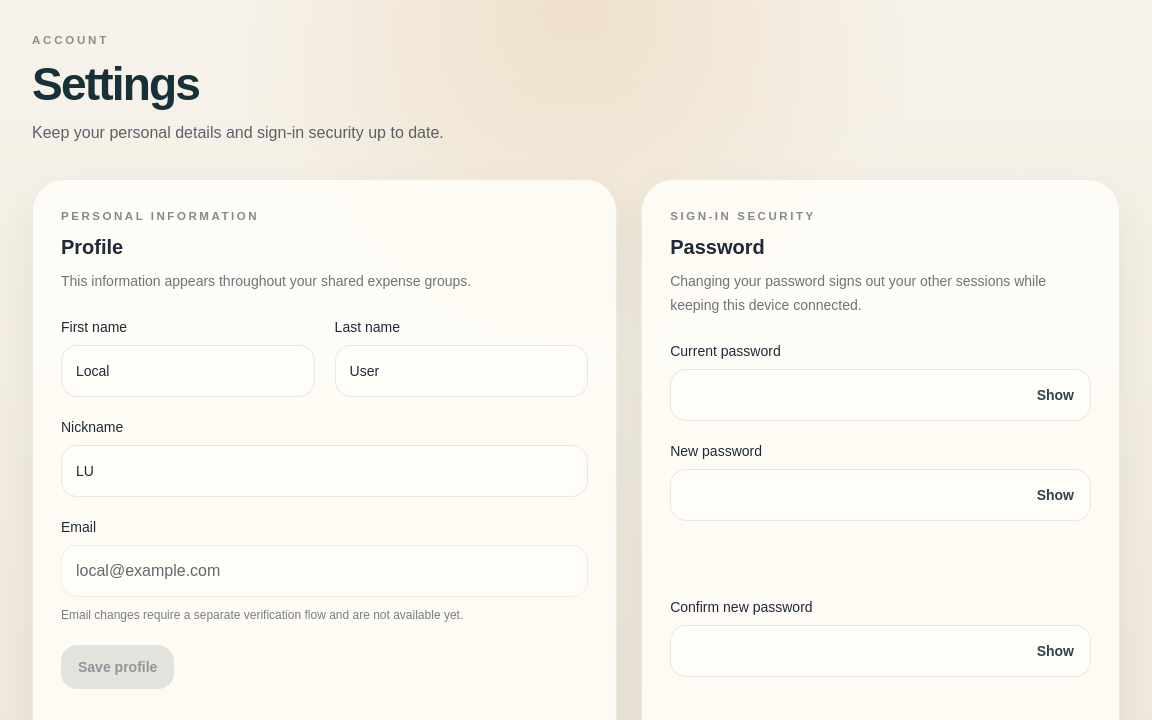
Scenario: AccountSettings › shows debounced password length and confirmation feedback
Expected: the field showing "local@example.com" is shown, [61,545,588,597]
In the password field labelled "New password": (881, 495) [670,469,1091,521], type "short"
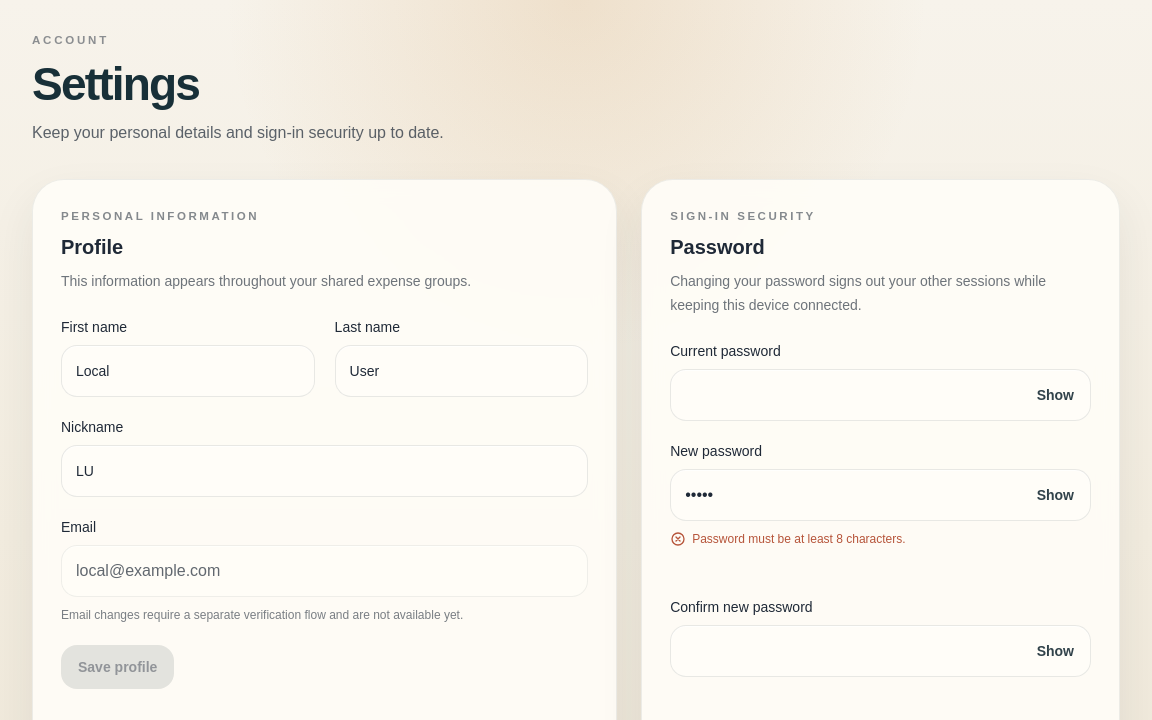
Expected: the text "Password must be at least 8 characters." is shown, [670,531,906,547]
In the password field labelled "New password": (881, 495) [670,469,1091,521], type "valid-password"
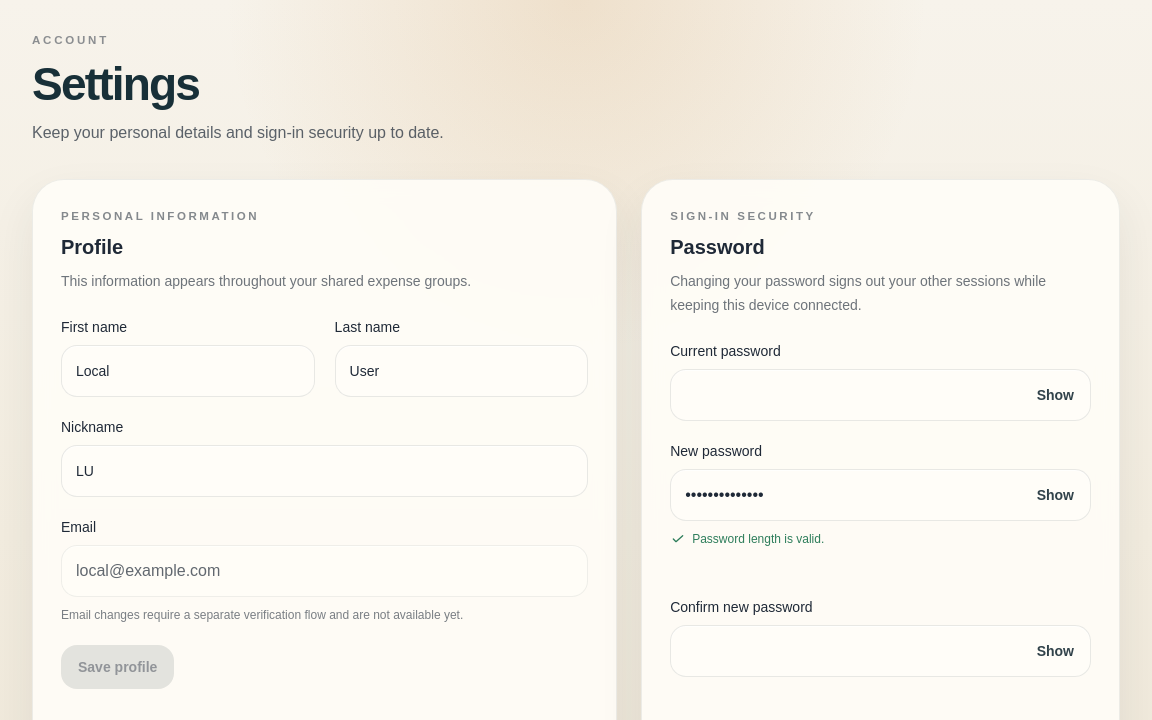
Expected: the text "Password length is valid." is shown, [670,531,824,547]
In the password field labelled "Confirm new password": (881, 651) [670,625,1091,677], type "different"
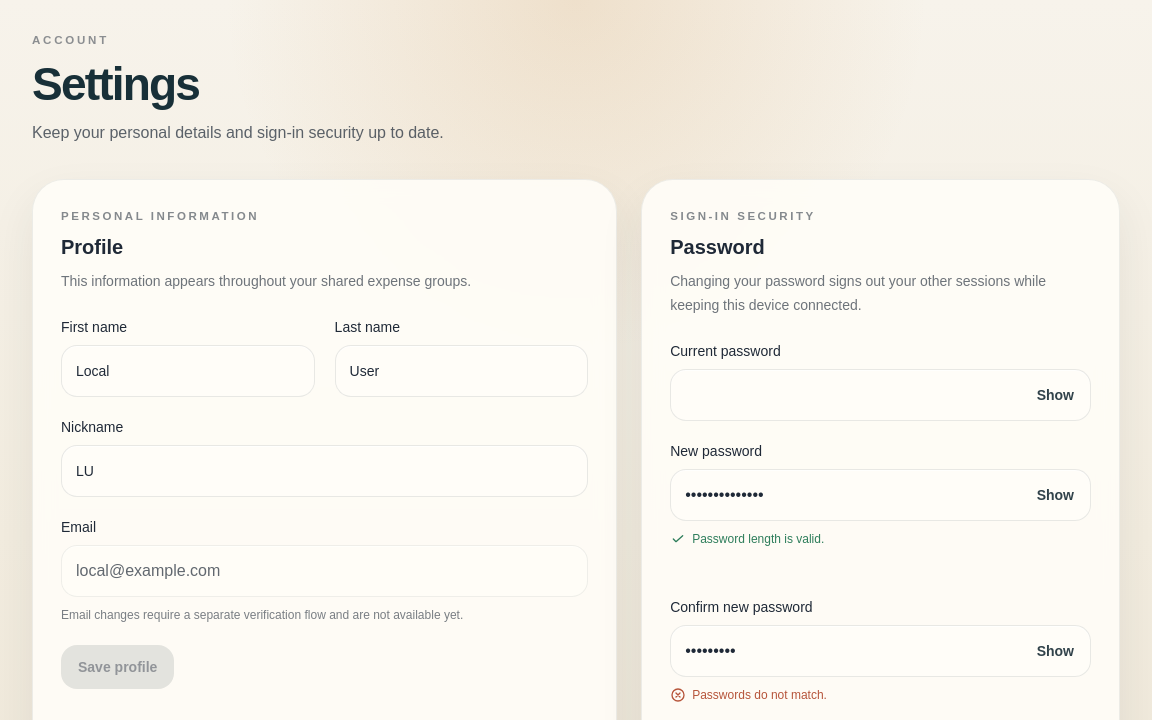
Expected: the text "Passwords do not match." is shown, [670,687,827,703]
In the password field labelled "Confirm new password": (881, 651) [670,625,1091,677], type "valid-password"
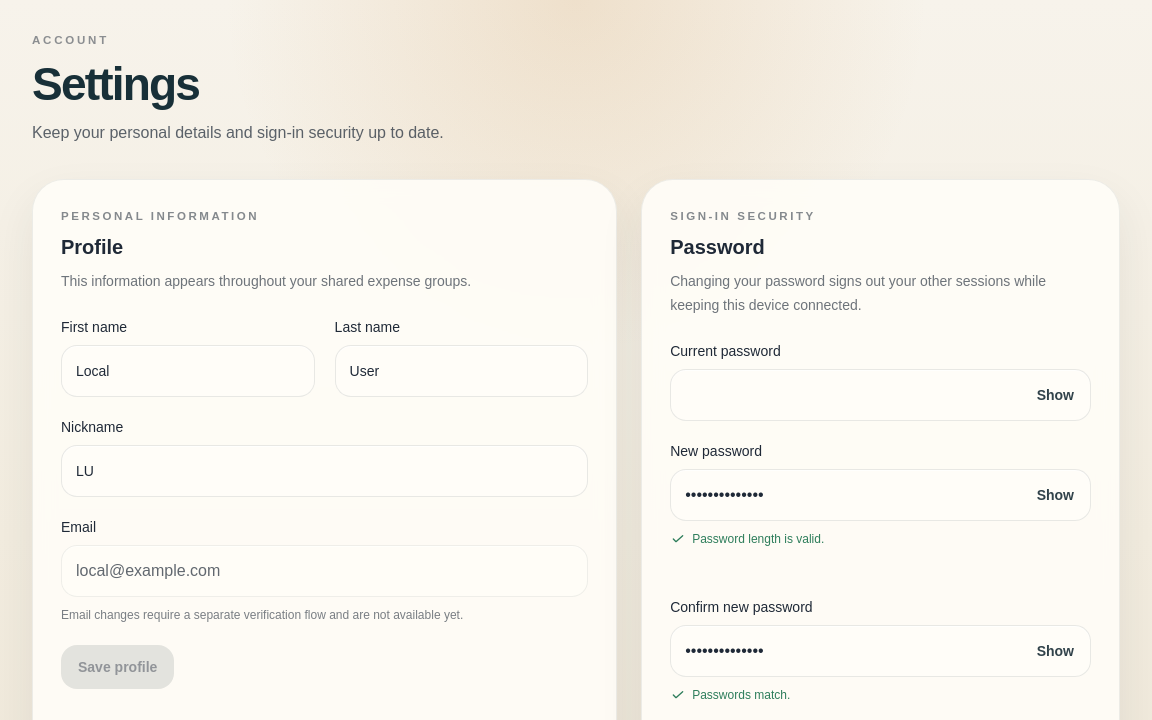
Expected: the text "Passwords match." is shown, [670,687,790,703]
